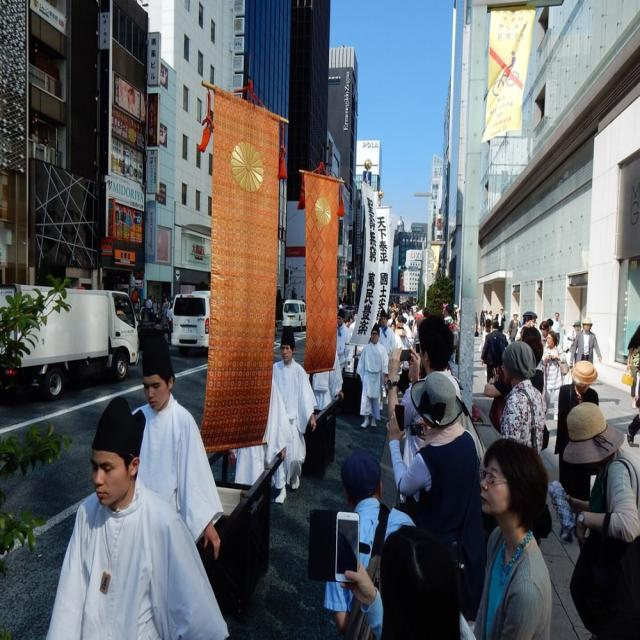body: (45, 397, 231, 640), (113, 289, 467, 395), (386, 369, 487, 623), (129, 334, 224, 562), (550, 403, 640, 637), (321, 448, 417, 639), (472, 436, 553, 640), (382, 313, 465, 511), (340, 523, 476, 640), (261, 322, 318, 508), (218, 323, 273, 512), (554, 361, 600, 544), (498, 339, 550, 455), (303, 347, 345, 462), (475, 306, 587, 348), (355, 322, 389, 430), (540, 330, 568, 422), (482, 49, 522, 111), (480, 318, 510, 384), (569, 317, 603, 371), (625, 322, 640, 408), (624, 378, 640, 447), (336, 308, 351, 374), (378, 308, 396, 358), (564, 318, 582, 364), (514, 310, 538, 342), (118, 79, 138, 116), (478, 318, 494, 352), (507, 311, 522, 344), (538, 319, 551, 349), (494, 307, 506, 334), (551, 312, 564, 331)
